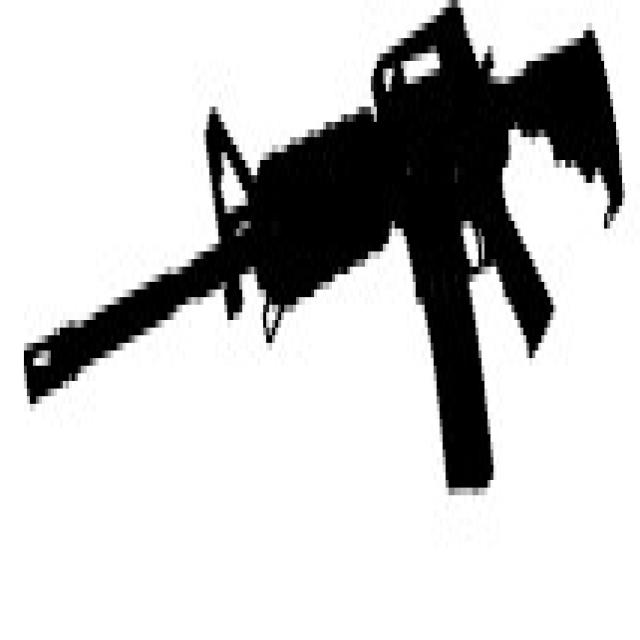rifle: (12, 1, 630, 515)
